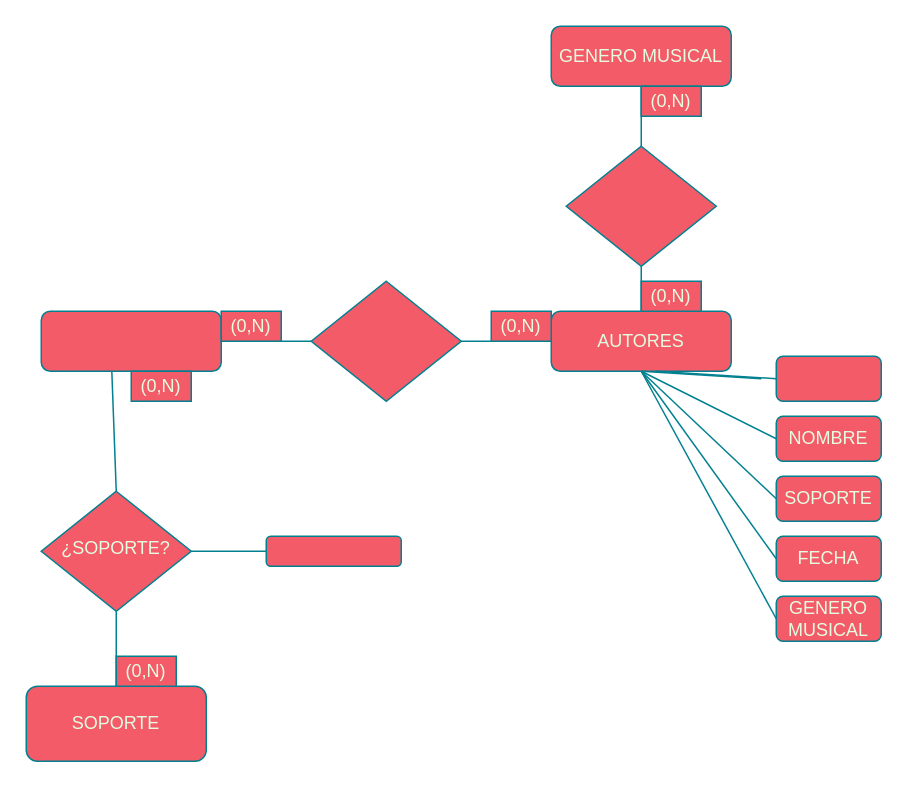
This 908x788 diagram has some shape labels left out. The centre of each missing label's shape, as x and y in pixels:
"FECHA PUB." goes at point 333,550.
"GENERO M." goes at point 640,205.
"ID.Autor" goes at point 828,378.
"REGISTRO" goes at point 385,340.
"TITULOS" goes at point 130,340.
